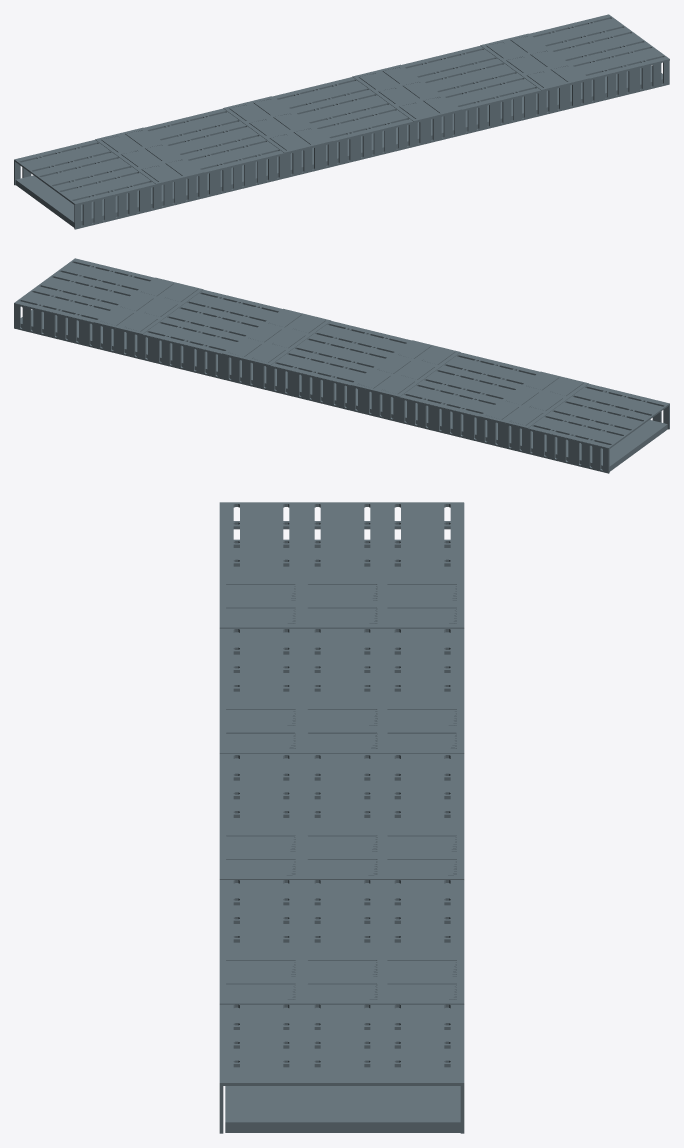
File: iron bridge combined.fbx
3 views of the same model, one above another, from view 1: azimuth 30°, elevation 25°; view 2: azimuth 150°, elevation 25°; view 3: azimuth 270°, elevation 25° (orthographic). The views are drawn at different scales.
Parts seen in each view (by area): view 1: pCube514; view 2: pCube514; view 3: pCube514.
Boxes of the visible parts, x1,y1,x2,y2 form: pCube514: (14, 14, 669, 229); pCube514: (14, 258, 669, 473); pCube514: (219, 502, 464, 1133).
Bounding box in the file's own units: 3395 × 141 × 605.
